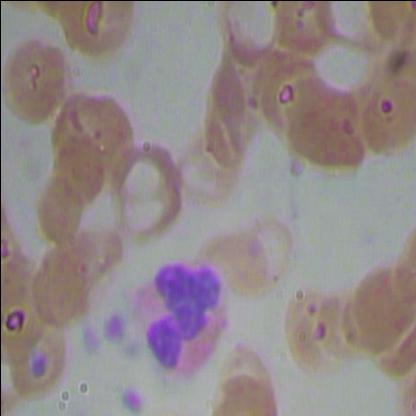Platelets: (101, 303, 127, 345), (74, 318, 100, 360), (119, 375, 145, 415)
RBC: (262, 64, 374, 181), (336, 247, 416, 370), (1, 12, 74, 131), (112, 132, 186, 248), (61, 82, 137, 188), (56, 206, 132, 312), (21, 230, 96, 336), (28, 144, 102, 250), (268, 286, 342, 380), (1, 310, 71, 405), (221, 208, 294, 291), (170, 123, 242, 206), (320, 280, 375, 380), (354, 77, 416, 161), (214, 0, 288, 70), (56, 1, 142, 60), (205, 363, 278, 415), (398, 214, 416, 320), (393, 352, 415, 415)
WBC: (128, 254, 235, 386)
